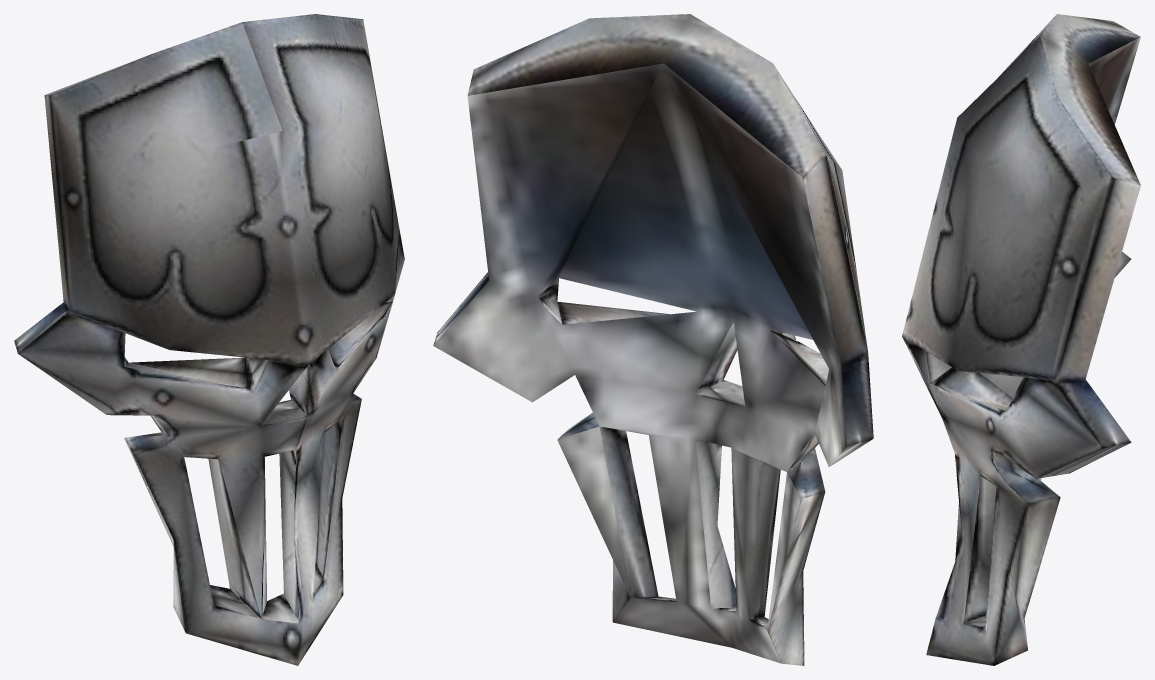
File: Mask.glb
The picture shows the model from 3 angles, left to right: view 1: azimuth 30°, elevation 25°; view 2: azimuth 150°, elevation 25°; view 3: azimuth 270°, elevation 25°; orthographic projection. The views are drawn at different scales.
Parts seen in each view (by area): view 1: Imperial_Knight_Helmet_3; view 2: Imperial_Knight_Helmet_3; view 3: Imperial_Knight_Helmet_3.
Boxes of the visible parts, bbox=[...] form: Imperial_Knight_Helmet_3: bbox=[14, 14, 404, 665]; Imperial_Knight_Helmet_3: bbox=[433, 14, 873, 665]; Imperial_Knight_Helmet_3: bbox=[902, 14, 1140, 665].
Bounding box in the file's own units: 1.03 × 1.53 × 0.5367.
1 material, 1 textured.
